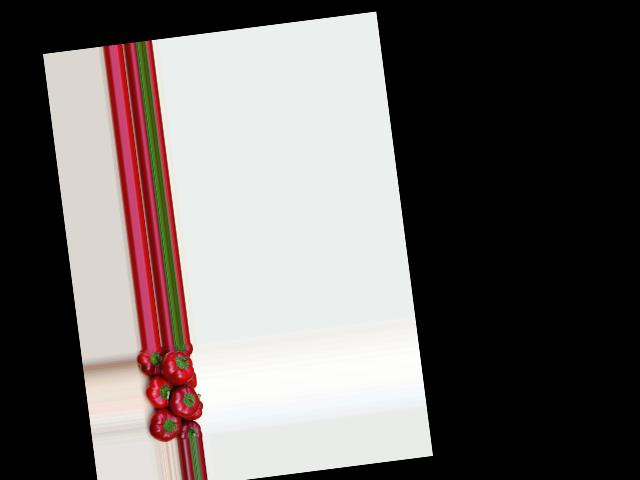bell_pepper: (184, 374, 199, 389)
